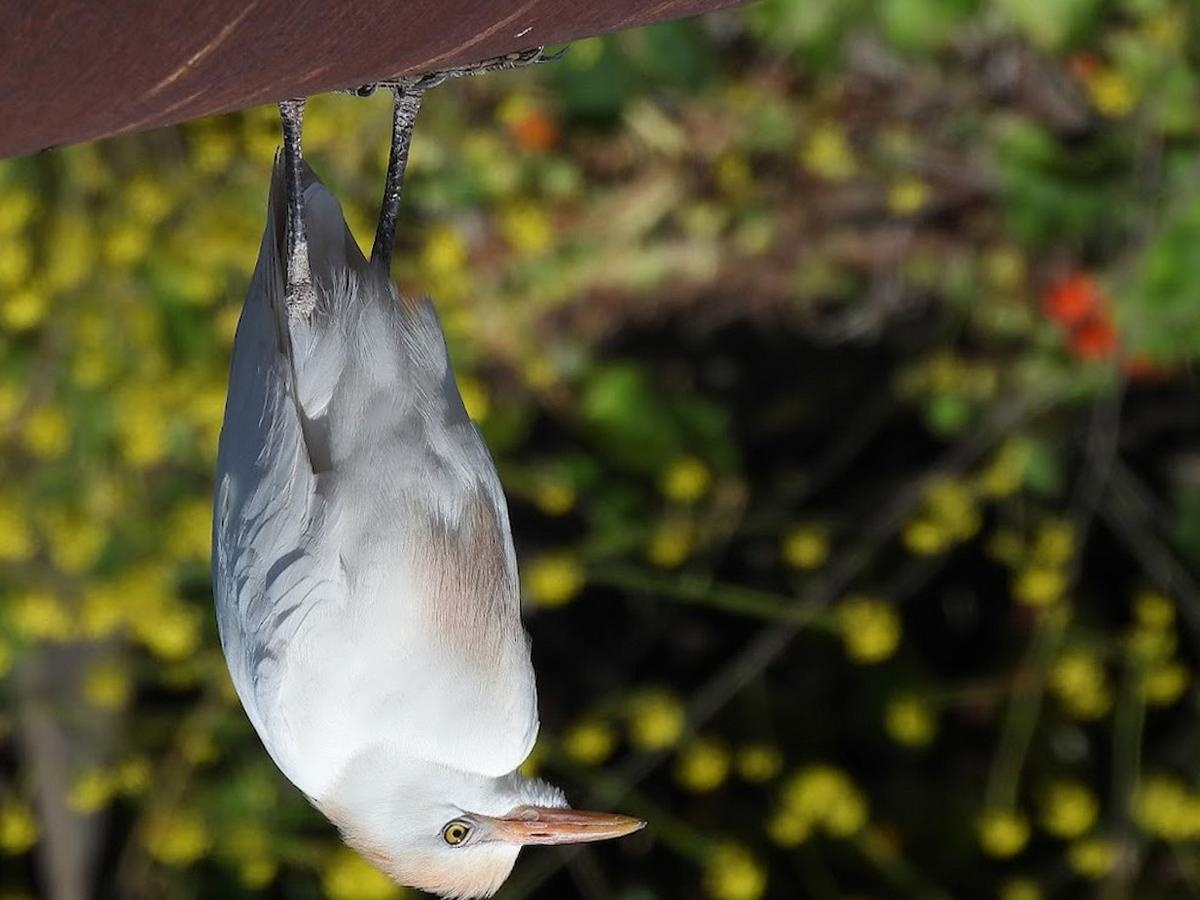egret: (224, 35, 659, 899)
